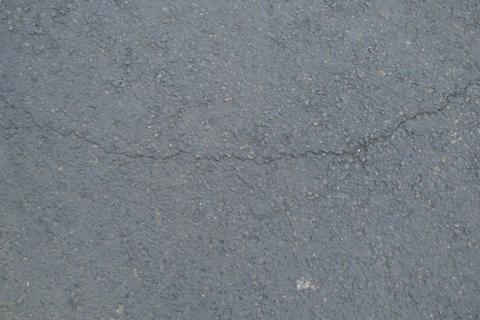crack: (10, 81, 480, 163)
